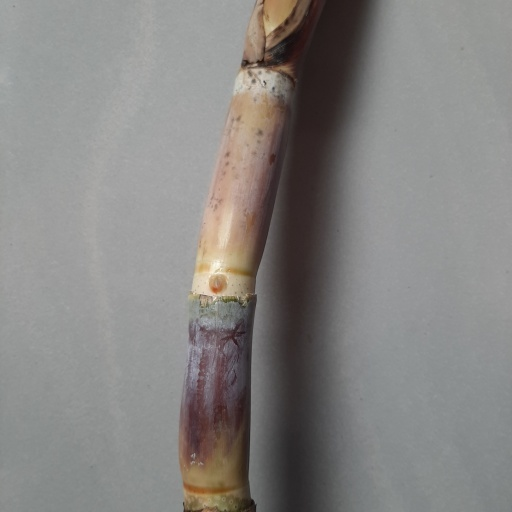Bud: (208, 273, 227, 294)
